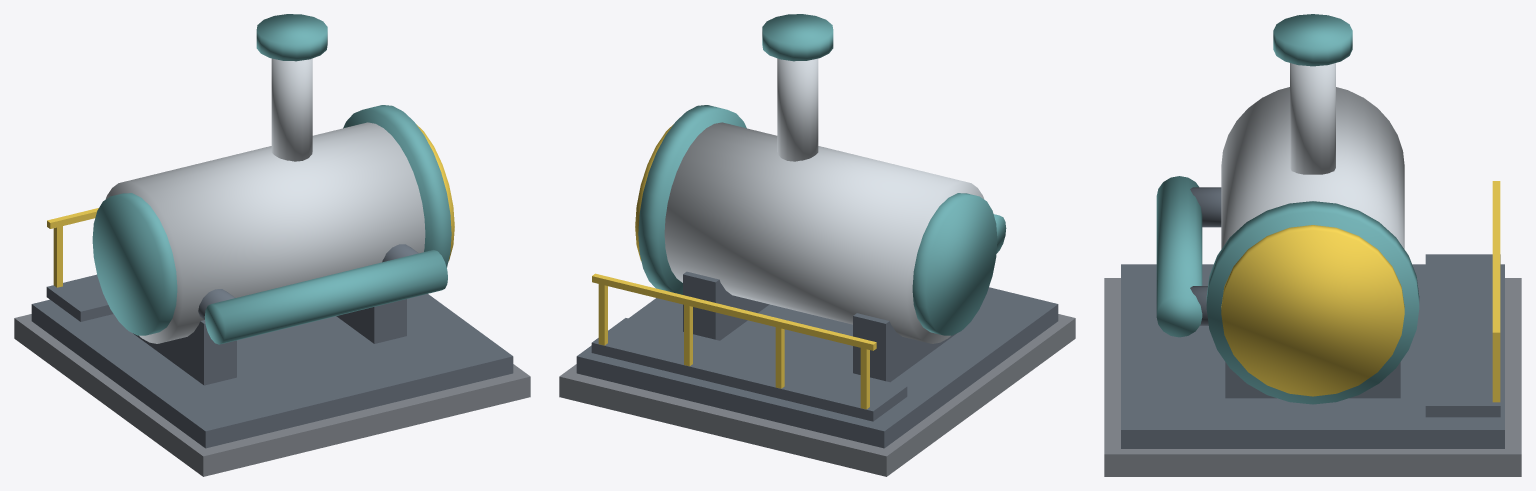
Rendered from receiver_skid.glb.
The picture shows the model from 3 angles, left to right: view 1: azimuth 30°, elevation 25°; view 2: azimuth 150°, elevation 25°; view 3: azimuth 270°, elevation 25°; orthographic projection. The views are drawn at different scales.
Visible parts, largest first — view 1: RecvBarrel, RecvSkid, RecvPad, BypassLine, ReducerEnd, ClosureFlange, ReliefRiser, RecvSaddle_-0.28, ReliefHead, RecvWalkway, RecvSaddle_0.24, RecvPost_-0.40; view 2: RecvBarrel, RecvSkid, RecvPad, RecvWalkway, ReducerEnd, ClosureFlange, ReliefRiser, RecvSaddle_-0.28, ReliefHead, RecvRailTop, RecvSaddle_0.24, RecvPost_0.40 (+3 smaller); view 3: RecvSkid, ClosureDoor, RecvPad, RecvBarrel, RecvWalkway, ClosureFlange, BypassLine, ReliefRiser, ReliefHead, RecvSaddle_0.24, RecvRailTop, BypassConnectL (+1 smaller).
Boxes of the visible parts, x1=… form: RecvBarrel: x1=105, y1=122, x2=425, y2=343; RecvSkid: x1=31, y1=294, x2=513, y2=448; RecvPad: x1=14, y1=314, x2=530, y2=476; BypassLine: x1=204, y1=250, x2=447, y2=344; ReducerEnd: x1=92, y1=193, x2=177, y2=335; ClosureFlange: x1=343, y1=105, x2=451, y2=267; ReliefRiser: x1=271, y1=58, x2=312, y2=161; RecvSaddle_-0.28: x1=133, y1=320, x2=236, y2=385; ReliefHead: x1=256, y1=14, x2=327, y2=61; RecvWalkway: x1=46, y1=274, x2=113, y2=321; RecvSaddle_0.24: x1=336, y1=299, x2=406, y2=343; RecvPost_-0.40: x1=53, y1=223, x2=62, y2=287; RecvBarrel: x1=664, y1=122, x2=984, y2=343; RecvSkid: x1=576, y1=287, x2=1058, y2=448; RecvPad: x1=559, y1=314, x2=1075, y2=476; RecvWalkway: x1=591, y1=318, x2=907, y2=421; ReducerEnd: x1=912, y1=193, x2=997, y2=335; ClosureFlange: x1=638, y1=105, x2=746, y2=294; ReliefRiser: x1=777, y1=58, x2=818, y2=161; RecvSaddle_-0.28: x1=853, y1=313, x2=956, y2=382; ReliefHead: x1=762, y1=14, x2=833, y2=61; RecvRailTop: x1=592, y1=273, x2=876, y2=350; RecvSaddle_0.24: x1=683, y1=271, x2=769, y2=340; RecvPost_0.40: x1=598, y1=281, x2=607, y2=345; RecvSkid: x1=1121, y1=264, x2=1504, y2=448; ClosureDoor: x1=1221, y1=225, x2=1404, y2=396; RecvPad: x1=1104, y1=278, x2=1521, y2=476; RecvBarrel: x1=1221, y1=87, x2=1404, y2=248; RecvWalkway: x1=1425, y1=254, x2=1500, y2=417; ClosureFlange: x1=1206, y1=201, x2=1419, y2=404; BypassLine: x1=1156, y1=176, x2=1202, y2=337; ReliefRiser: x1=1290, y1=63, x2=1335, y2=174; ReliefHead: x1=1273, y1=14, x2=1352, y2=66; RecvSaddle_0.24: x1=1225, y1=362, x2=1400, y2=398; RecvRailTop: x1=1492, y1=181, x2=1500, y2=339; BypassConnectL: x1=1190, y1=187, x2=1221, y2=227.
Size of the model in its own units: 1 by 0.975 by 1.
